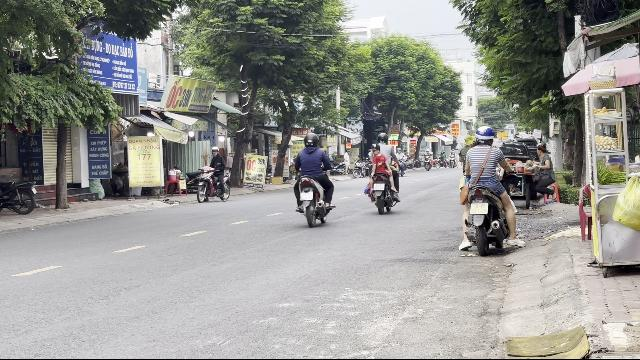helmet: (474, 126, 494, 144), (304, 132, 318, 148)
licenseplate: (470, 204, 488, 214), (300, 192, 314, 200)
motorcyclist: (454, 124, 520, 256), (291, 132, 335, 226)
